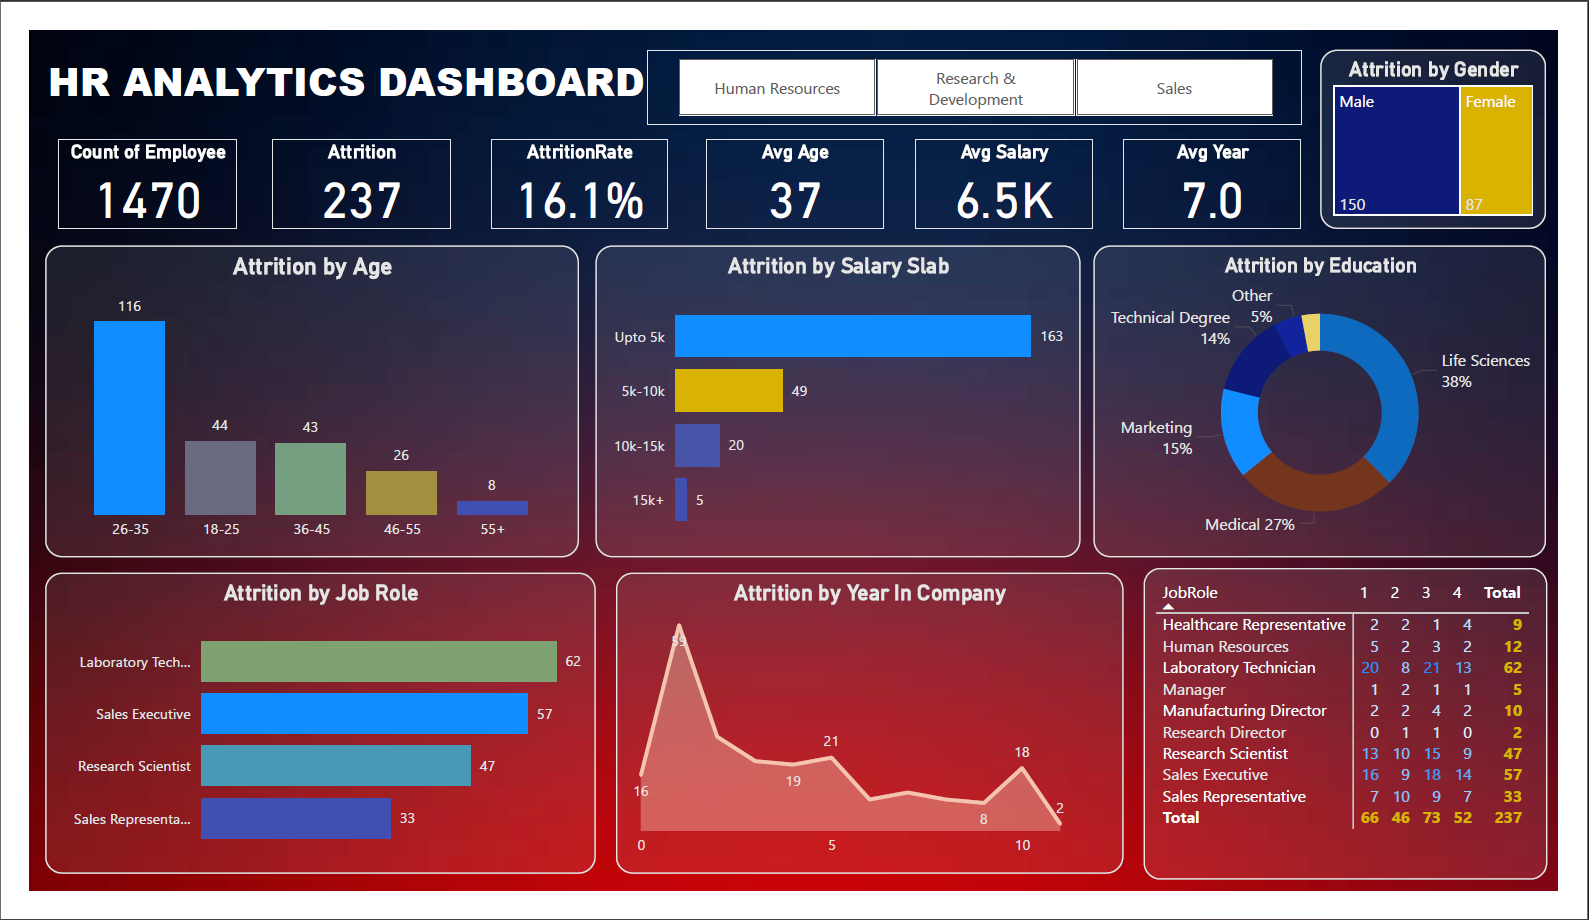

The page's visual inventory and layout, read from the dashboard file:
{"tool":"powerbi","page":{"name":"Page 1","canvas":[1280,720],"ordinal":0},"visuals":[{"type":"card","title":"Count of Employee","fields":{"Values":["CountNonNull(HR_Analytics.EmpID)"]},"box":[24.2,91,150,75.4],"z":0},{"type":"card","title":"AttritionRate","fields":{"Values":["HR_Analytics.AttritionRate"]},"box":[385.5,91,149.4,75.4],"z":1000},{"type":"card","title":"Avg Age","fields":{"Values":["Avg(HR_Analytics.Age)"]},"box":[566.2,91,150,75.4],"z":2000},{"type":"card","title":"Attrition","fields":{"Values":["Sum(HR_Analytics.AttritionColumn)"]},"box":[203.4,91,149.4,75.4],"z":3000},{"type":"card","title":"Avg Salary","fields":{"Values":["Avg(HR_Analytics.MonthlyIncome)"]},"box":[741.1,91,150,75.4],"z":4000},{"type":"card","title":"Avg Year","fields":{"Values":["Avg(HR_Analytics.YearsAtCompany)"]},"box":[916.1,91,149.4,75.4],"z":5000},{"type":"donutChart","title":"Attrition by Education","fields":{"Category":["HR_Analytics.EducationField"],"Y":["Sum(HR_Analytics.AttritionColumn)"]},"box":[891.4,180,378.6,261.4],"z":6000},{"type":"columnChart","title":"Attrition by Age","fields":{"Category":["HR_Analytics.AgeGroup"],"Y":["Sum(HR_Analytics.AttritionColumn)"]},"box":[12.9,180,447.1,261.4],"z":7000},{"type":"pivotTable","fields":{"Rows":["HR_Analytics.JobRole"],"Columns":["HR_Analytics.JobSatisfaction"],"Values":["Sum(HR_Analytics.AttritionColumn)"]},"box":[933.1,450.1,337.6,260.7],"z":8000},{"type":"barChart","title":"Attrition by Salary Slab","fields":{"Category":["HR_Analytics.SalarySlab"],"Y":["Sum(HR_Analytics.AttritionColumn)"]},"box":[474.3,180,405.7,261.4],"z":9000},{"type":"barChart","title":"Attrition by Job Role","fields":{"Y":["Sum(HR_Analytics.AttritionColumn)"],"Category":["HR_Analytics.JobRole"]},"box":[12.9,454.3,461.4,251.4],"z":10000},{"type":"areaChart","title":"Attrition by Year In Company","fields":{"Category":["HR_Analytics.YearsAtCompany"],"Y":["Sum(HR_Analytics.AttritionColumn)"]},"box":[491.4,454.3,424.3,251.4],"z":11000},{"type":"treemap","title":"Attrition by Gender","fields":{"Group":["HR_Analytics.Gender"],"Values":["Sum(HR_Analytics.AttritionColumn)"]},"box":[1081.1,15.6,189.2,150.8],"z":12000},{"type":"textbox","box":[0,15.1,566.7,63.1],"z":13000},{"type":"slicer","fields":{"Values":["HR_Analytics.Department"]},"box":[517.1,15.7,548.6,62.9],"z":14000}]}

Visuals, with their boxes in screenshot pixels (x1, y1, x2, y2), scaled from the page's 1280x720 canvas onto the 1589x920 screenshot:
"Count of Employee" card: (30, 116, 216, 213)
"AttritionRate" card: (479, 116, 664, 213)
"Avg Age" card: (703, 116, 889, 213)
"Attrition" card: (253, 116, 438, 213)
"Avg Salary" card: (920, 116, 1106, 213)
"Avg Year" card: (1137, 116, 1323, 213)
"Attrition by Education" donutChart: (1107, 230, 1577, 564)
"Attrition by Age" columnChart: (16, 230, 571, 564)
pivotTable - HR_Analytics.JobRole x HR_Analytics.JobSatisfaction: (1158, 575, 1577, 908)
"Attrition by Salary Slab" barChart: (589, 230, 1092, 564)
"Attrition by Job Role" barChart: (16, 580, 589, 902)
"Attrition by Year In Company" areaChart: (610, 580, 1137, 902)
"Attrition by Gender" treemap: (1342, 20, 1577, 213)
textbox: (0, 19, 704, 100)
slicer - HR_Analytics.Department: (642, 20, 1323, 100)
